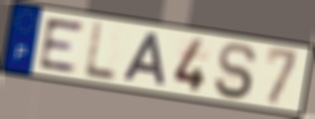4: (172, 36, 207, 93)
7: (264, 45, 300, 108)
A: (121, 31, 168, 88)
E: (38, 16, 86, 74)
L: (82, 20, 118, 83)
S: (212, 41, 259, 101)
